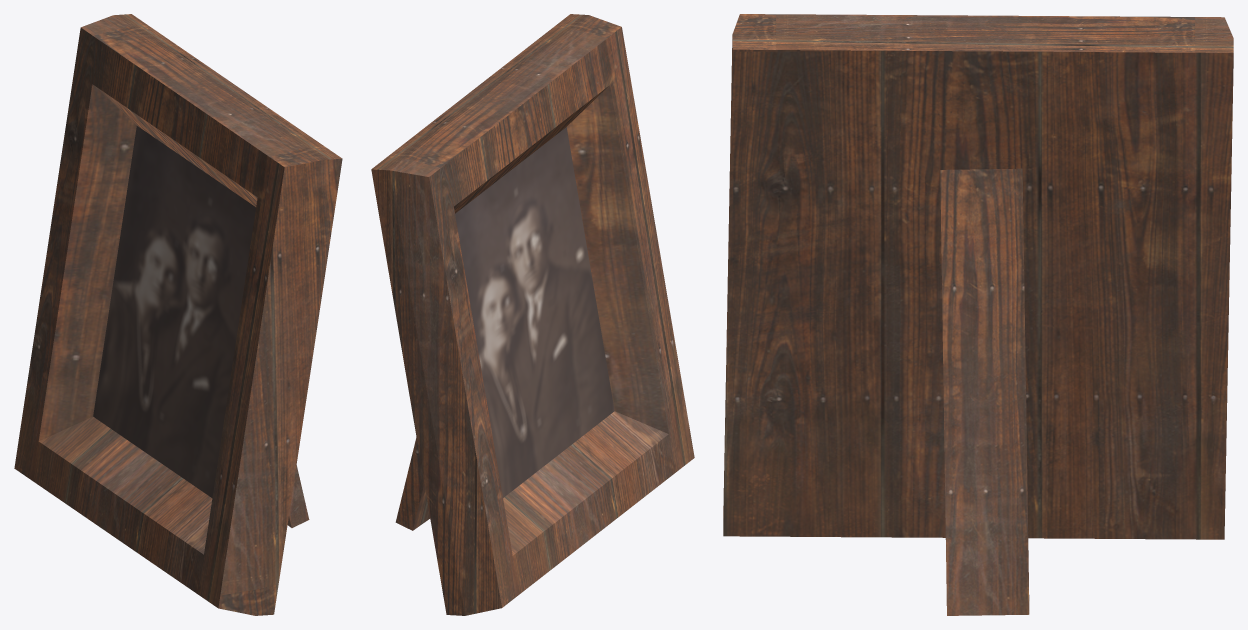
Rendered from Frame_PictureMarried_001.fbx.
The picture shows the model from 3 angles, left to right: view 1: azimuth 30°, elevation 25°; view 2: azimuth 150°, elevation 25°; view 3: azimuth 270°, elevation 25°; orthographic projection. The views are drawn at different scales.
Visible parts, largest first — view 1: Frame_PictureMarried_001; view 2: Frame_PictureMarried_001; view 3: Frame_PictureMarried_001.
Boxes of the visible parts, x1,y1,x2,y2 form: Frame_PictureMarried_001: (14, 14, 342, 615); Frame_PictureMarried_001: (371, 14, 694, 615); Frame_PictureMarried_001: (723, 14, 1233, 615).
Bounding box in the file's own units: 22.65 × 52.43 × 44.68.
